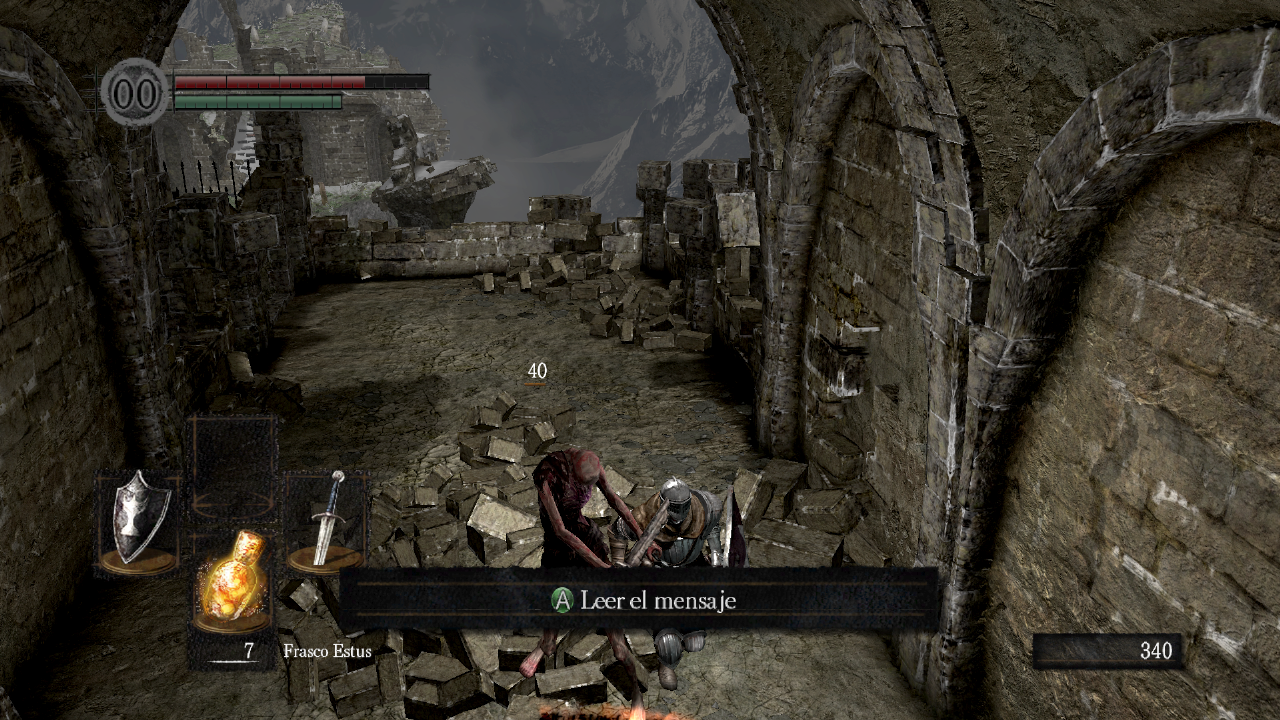dialogBox: (340, 567, 939, 632)
hollow: (519, 447, 671, 720)
player: (607, 476, 748, 691)
